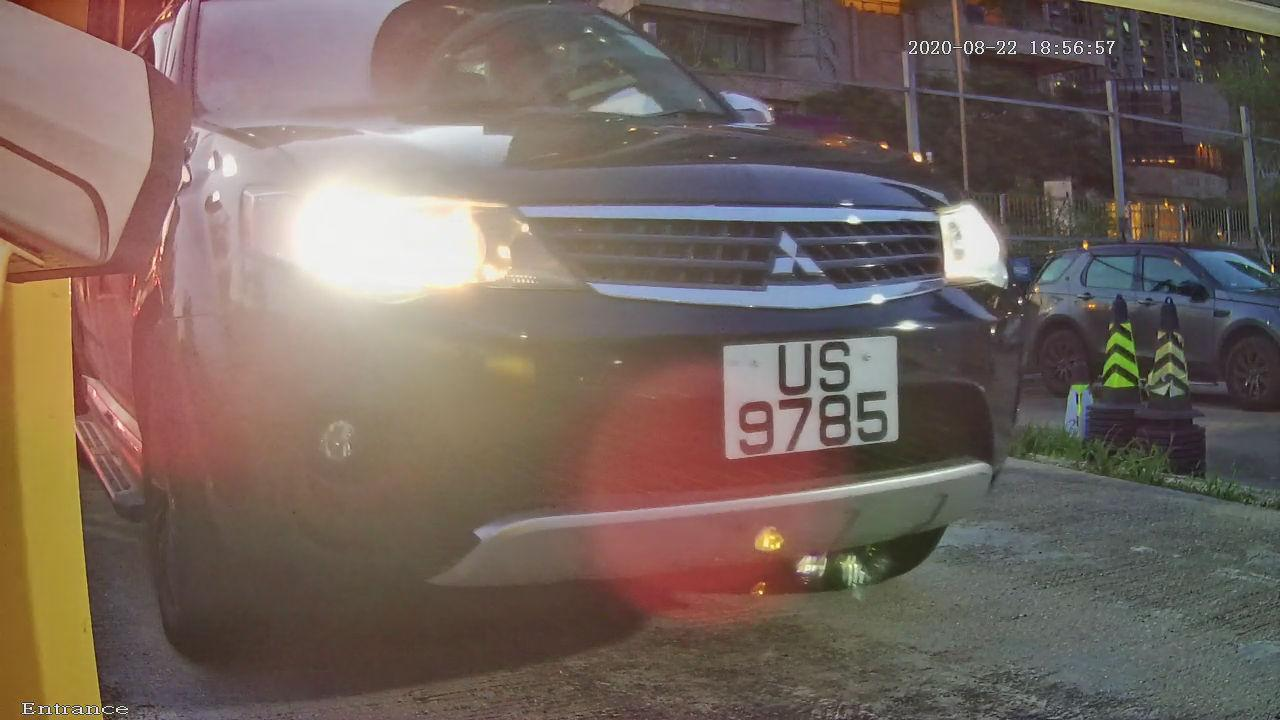Car: (52, 7, 1149, 666)
License Plate: (654, 298, 936, 518)
